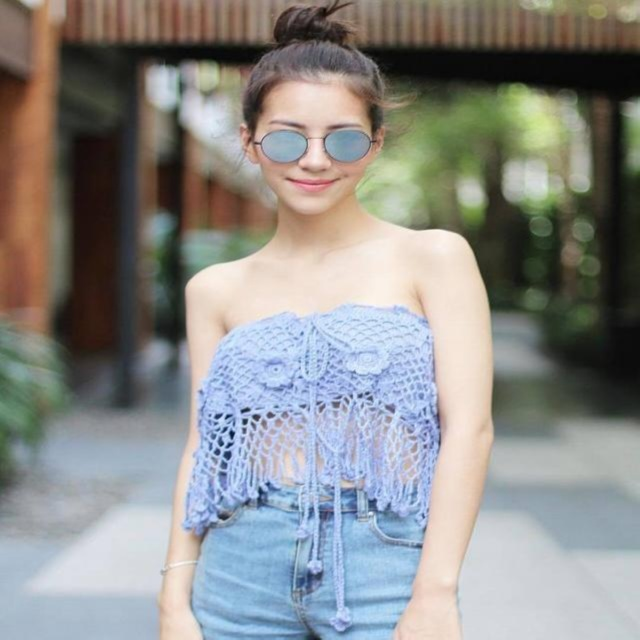Crop_Top: (234, 310, 428, 486)
Shorts: (178, 479, 439, 640)
Sleeveless: (401, 225, 493, 303), (183, 256, 248, 336)
low_neckline: (225, 228, 419, 407)
